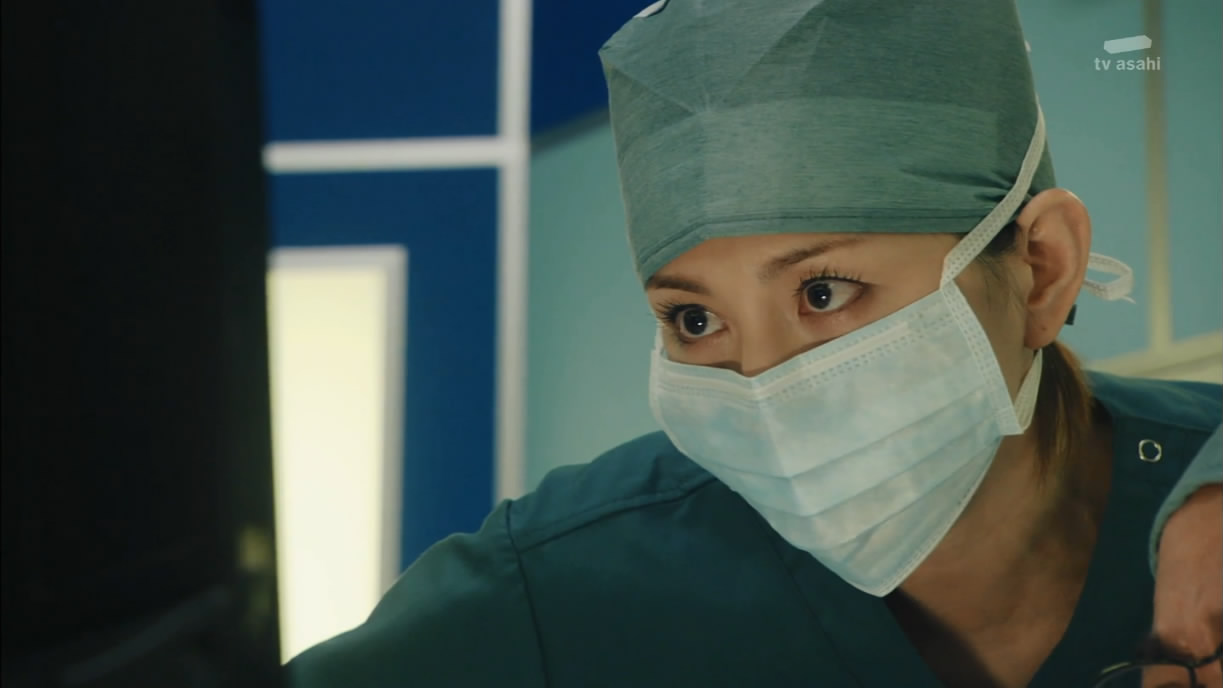mask: (652, 289, 1020, 597)
